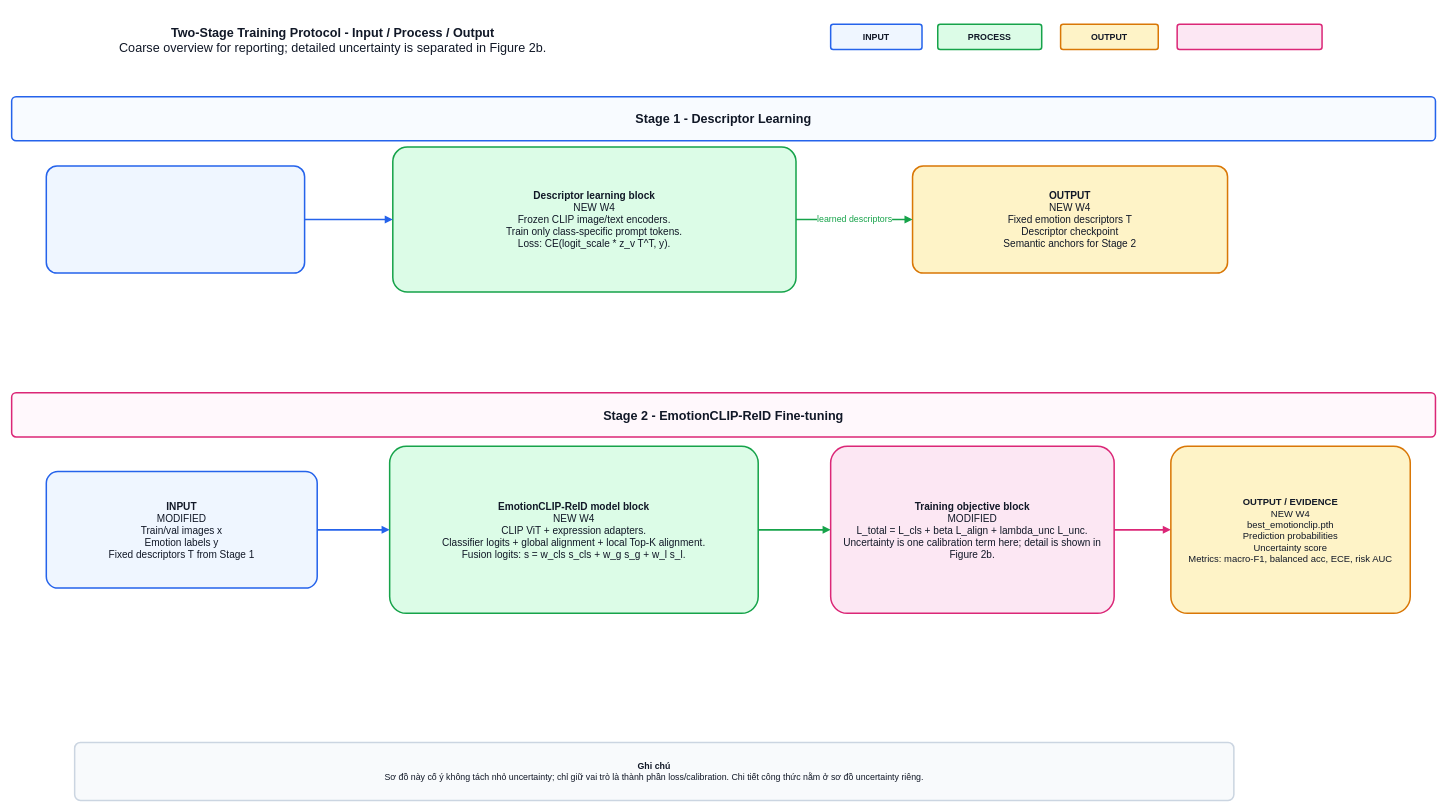
Image size: 1447x812. Some labels were removed from this diagram. The box of each missing label's shape, as (x1, y1, x2, y2) in pixels:
INPUT MODIFIED Train images x Emotion labels y 7 class names: (45, 165, 305, 274)
UNCERTAINTY TERM: (1176, 23, 1322, 50)
